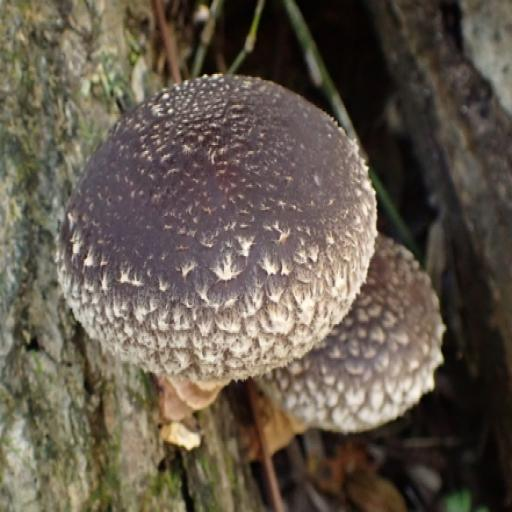Shiitake Mushroom: (40, 48, 498, 446)
